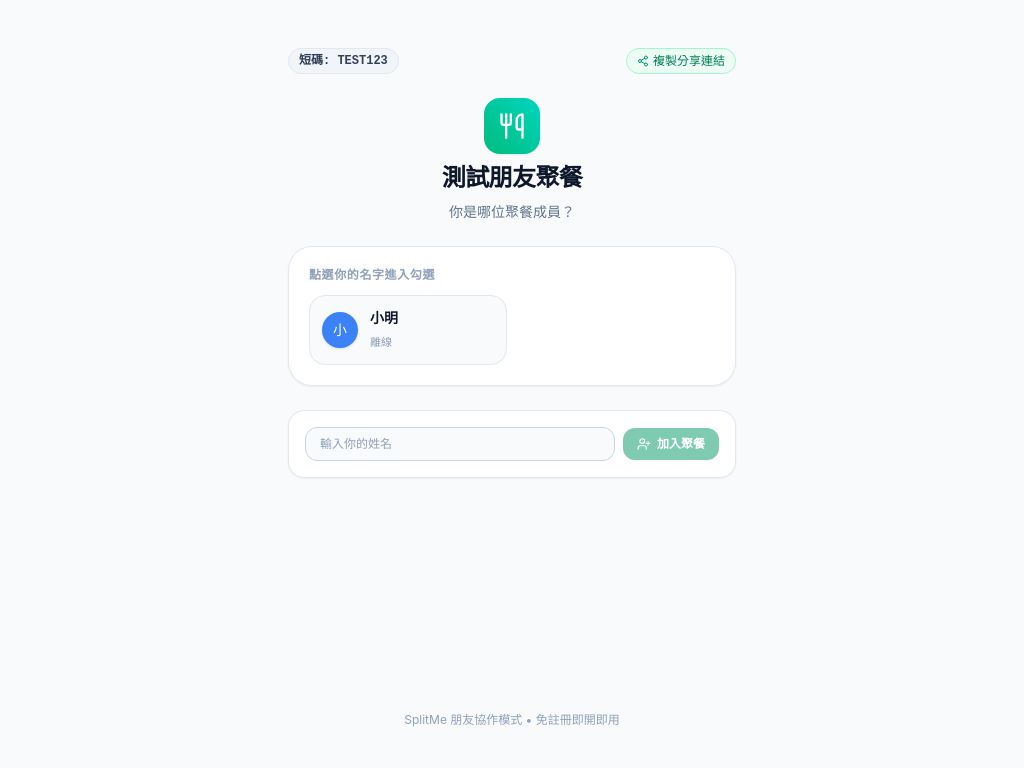
Test: Collaboration End-to-End Integration › renders friend check view when loaded via friend url params
Click the button "小 小明 離線". click: (408,330)
box: [309,295,507,365]
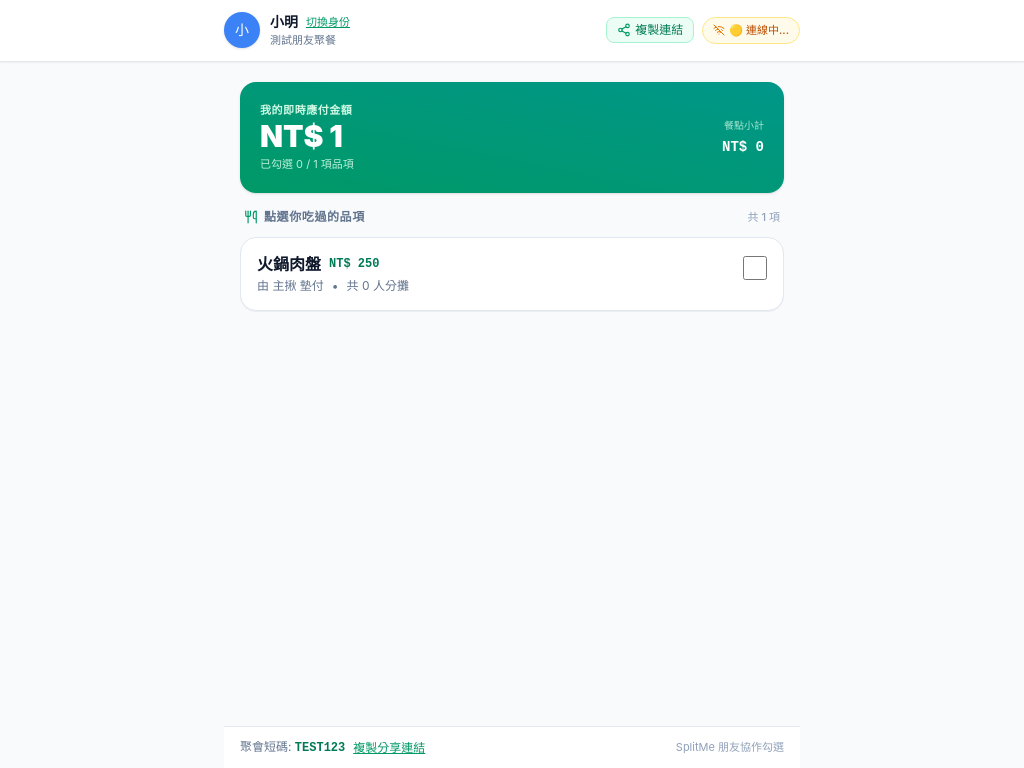
Expected: the text "小明" is shown, [270,12,298,32]
Expected: the text "火鍋肉盤" is shown, [257,254,321,274]
